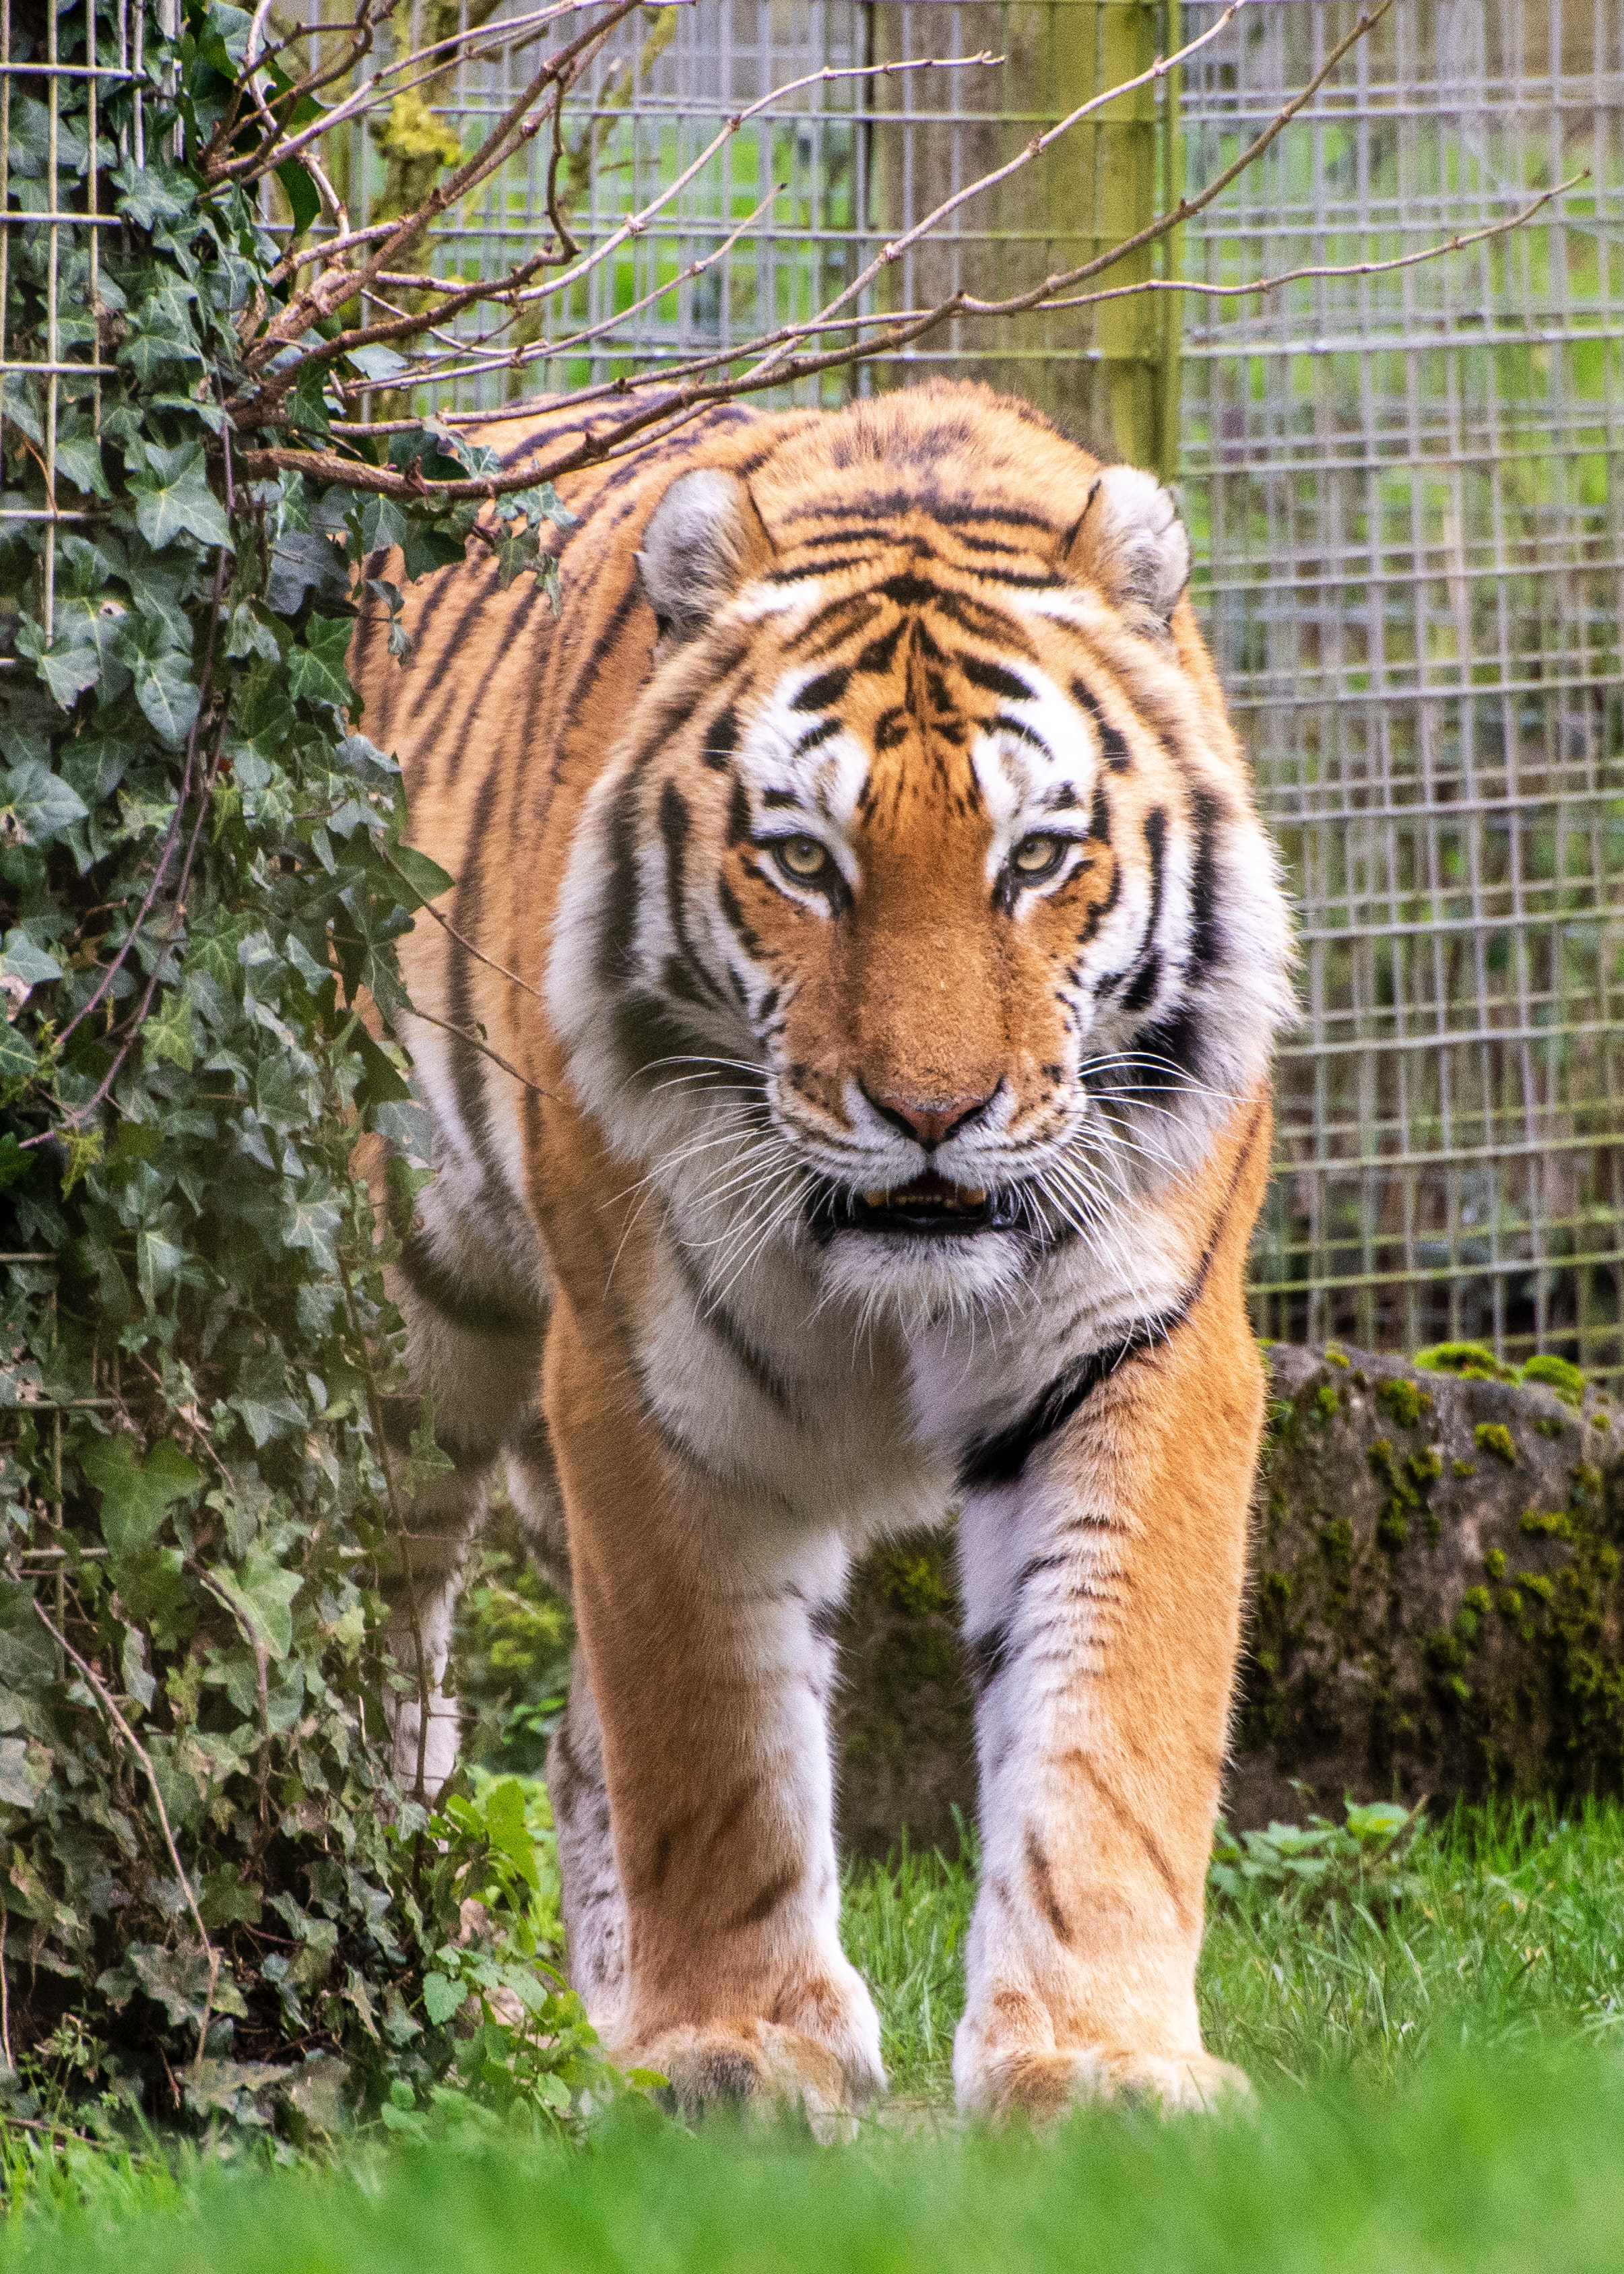tiger: (246, 325, 1443, 2176)
